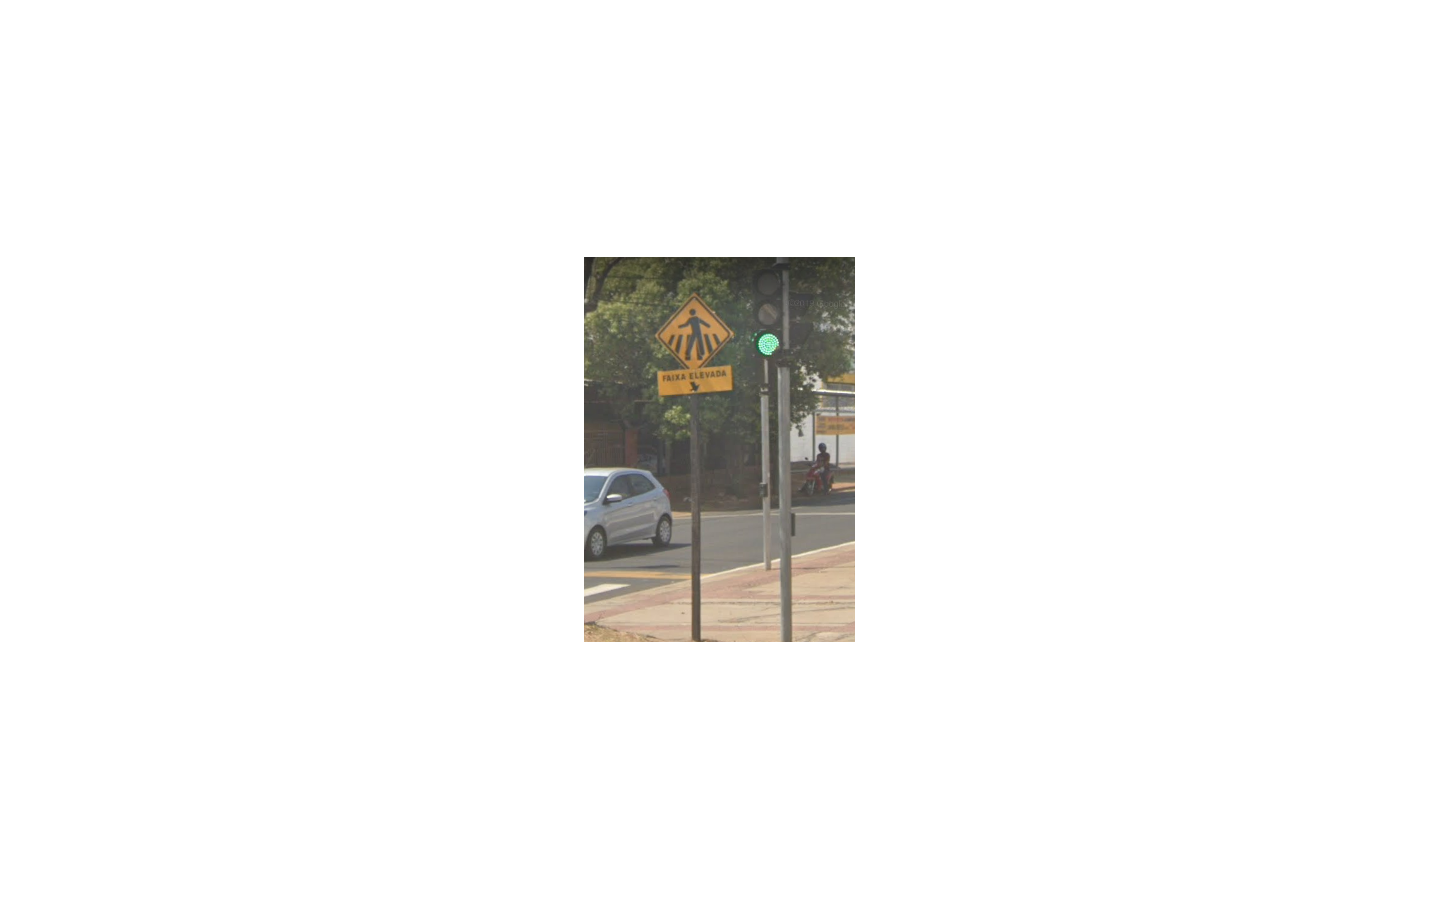telev: (654, 293, 733, 395)
